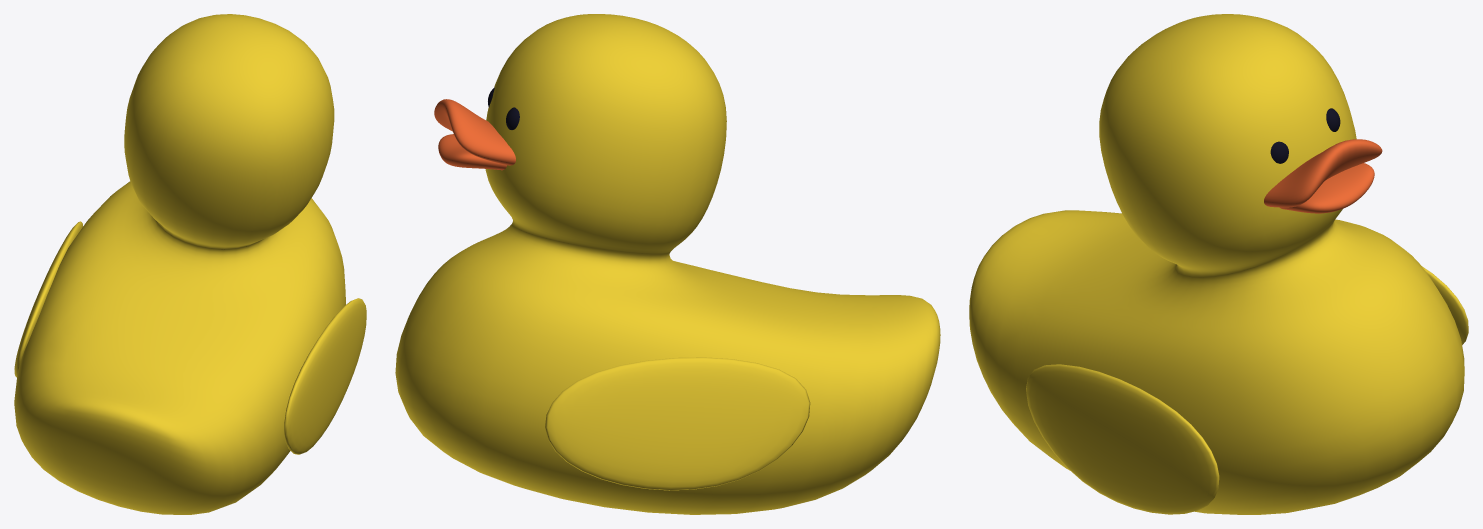
File: And.fbx
The picture shows the model from 3 angles, left to right: view 1: azimuth 30°, elevation 25°; view 2: azimuth 150°, elevation 25°; view 3: azimuth 270°, elevation 25°; orthographic projection. The views are drawn at different scales.
Parts seen in each view (by area): view 1: Krop.008; view 2: Krop.008, Næb.016, Næb.017; view 3: Krop.008, Næb.016, Næb.017.
Boxes of the visible parts, box(x1,y1,x2,y2) form: Krop.008: box(14, 14, 366, 514); Krop.008: box(395, 14, 940, 514); Næb.016: box(434, 99, 515, 165); Næb.017: box(438, 134, 506, 170); Krop.008: box(969, 14, 1468, 514); Næb.016: box(1264, 139, 1382, 207); Næb.017: box(1280, 163, 1374, 213).
Bounding box in the file's own units: 4.45 × 4.78 × 4.38.
